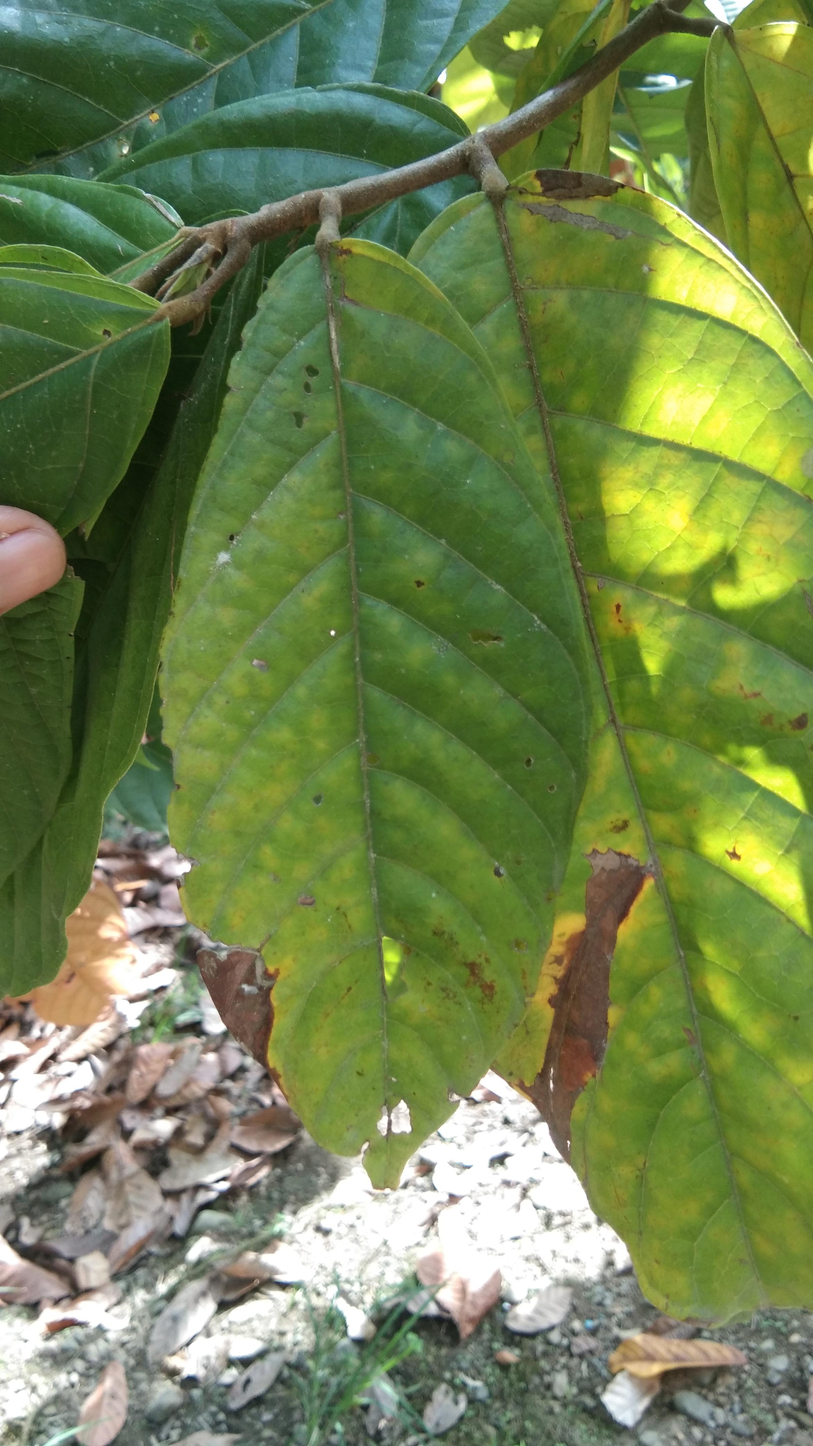deficiencia_potasio: (167, 236, 587, 1230)
